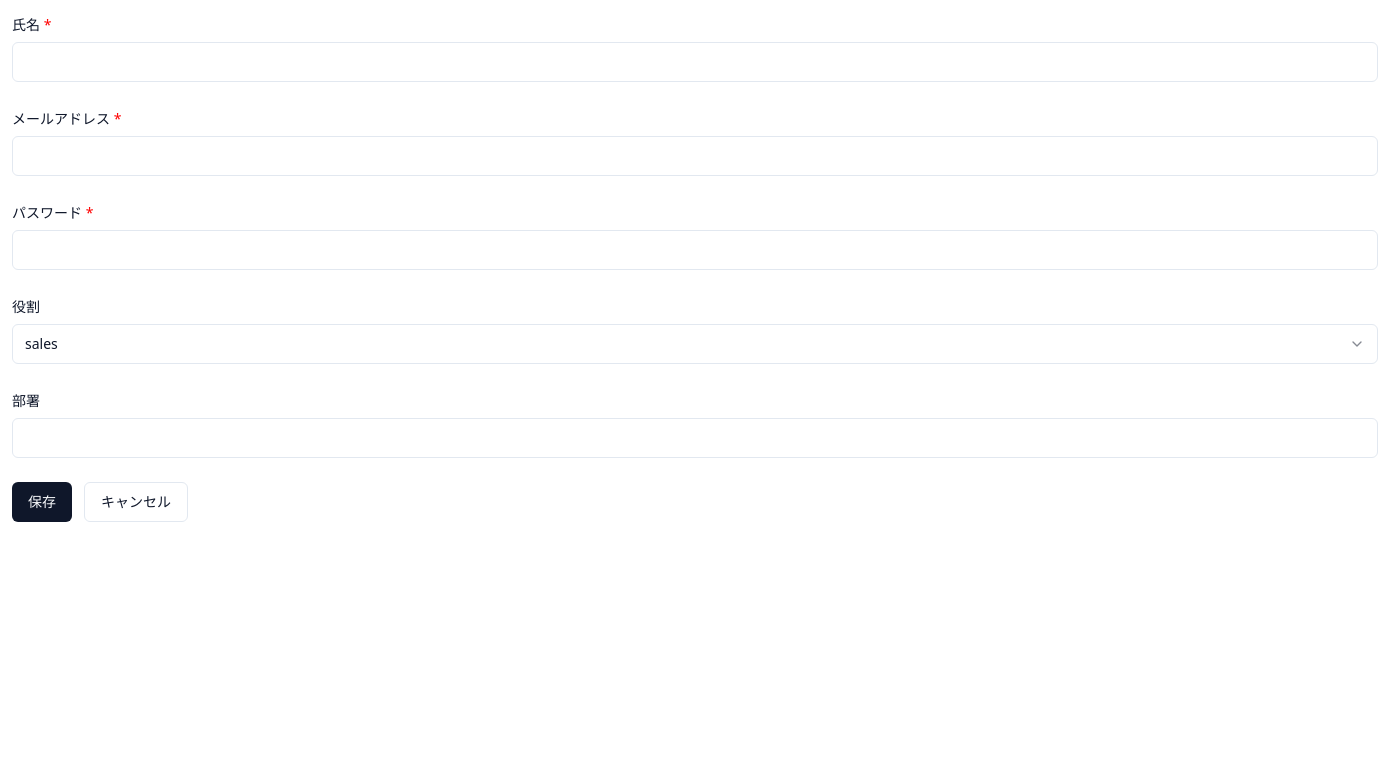
Test: UserForm – 新規登録モード (mode="create") › バリデーション › 氏名が空の場合にエラーメッセージを表示する
Note: 他の必須項目は入力済み、氏名だけ空
In the field labelled "メールアドレス *": (695, 156) [12,136,1378,176], type "tanaka@example.com"
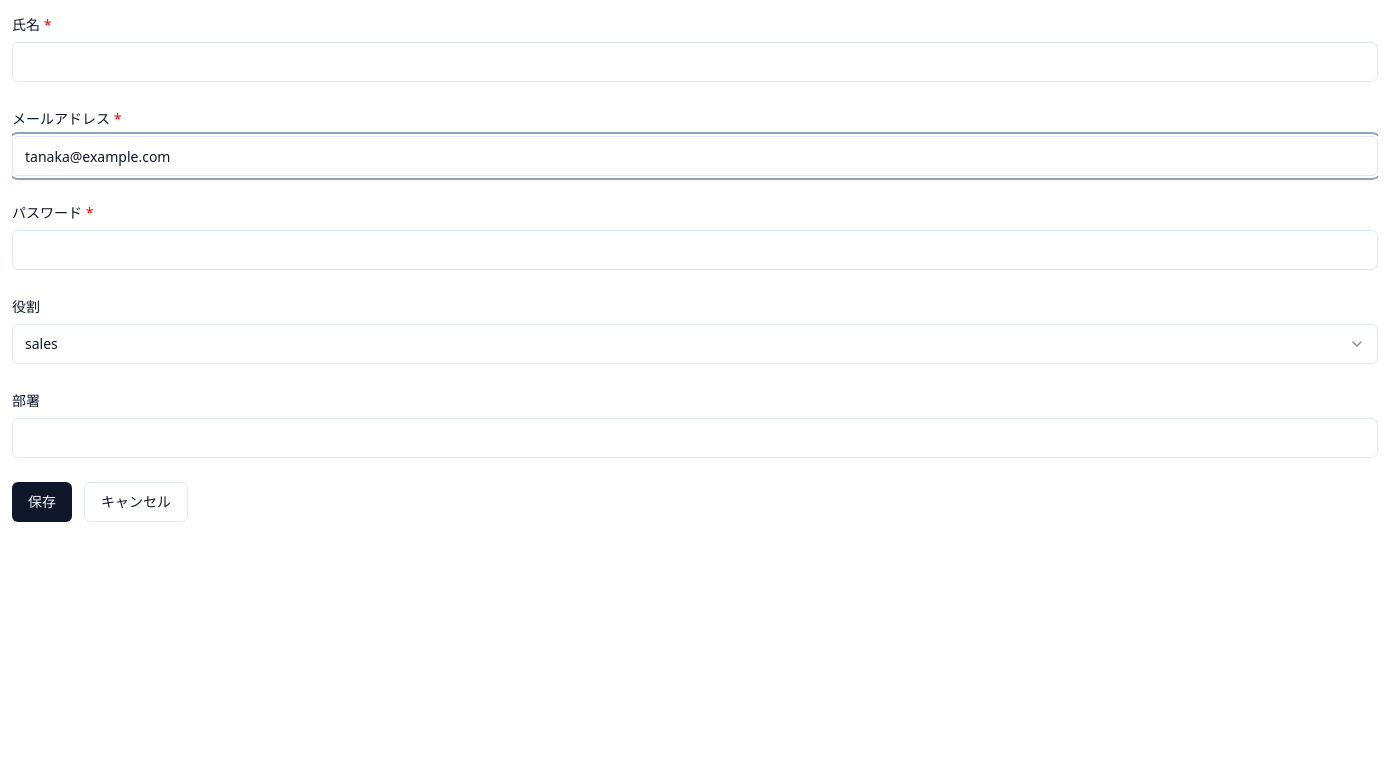
In the password field labelled "パスワード *": (695, 250) [12,230,1378,270], type "password123"
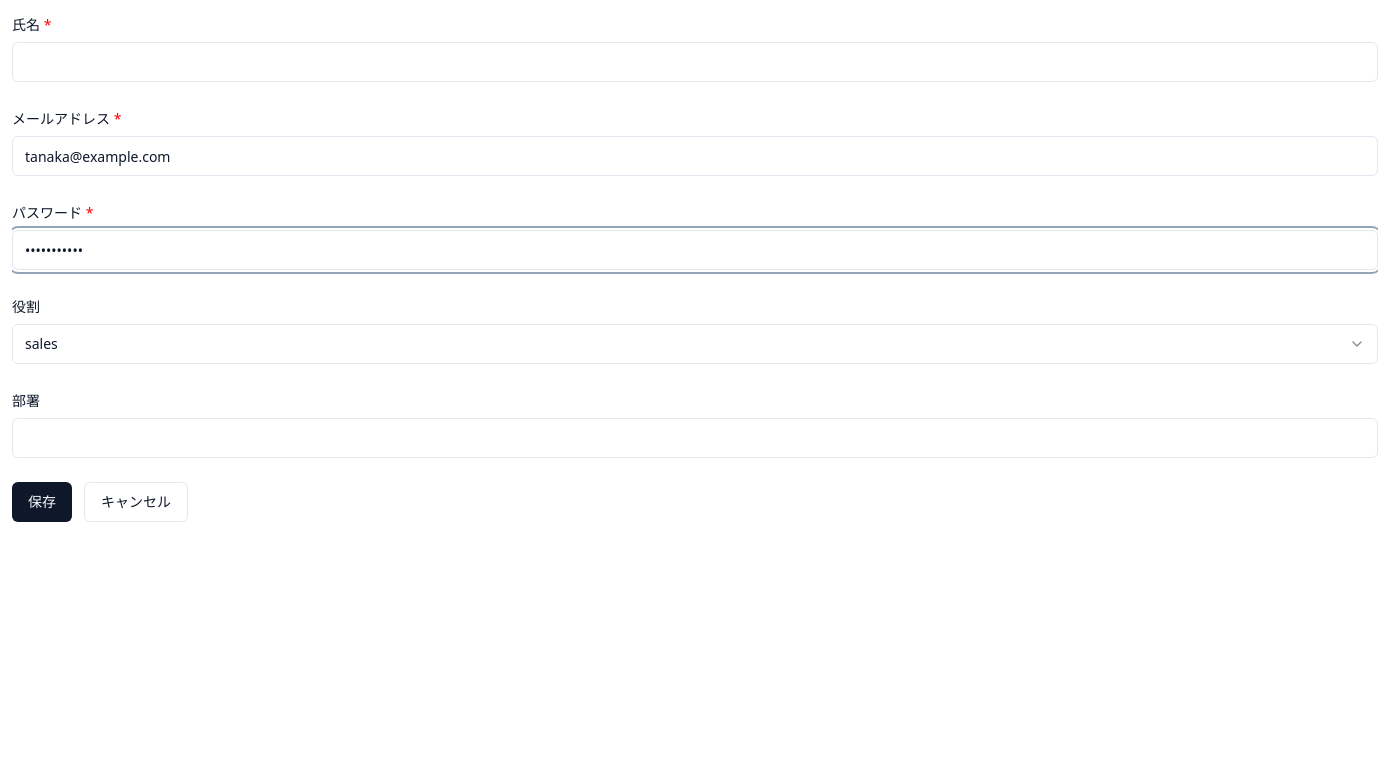
Click the button "保存": (42, 502) [12,482,72,522]
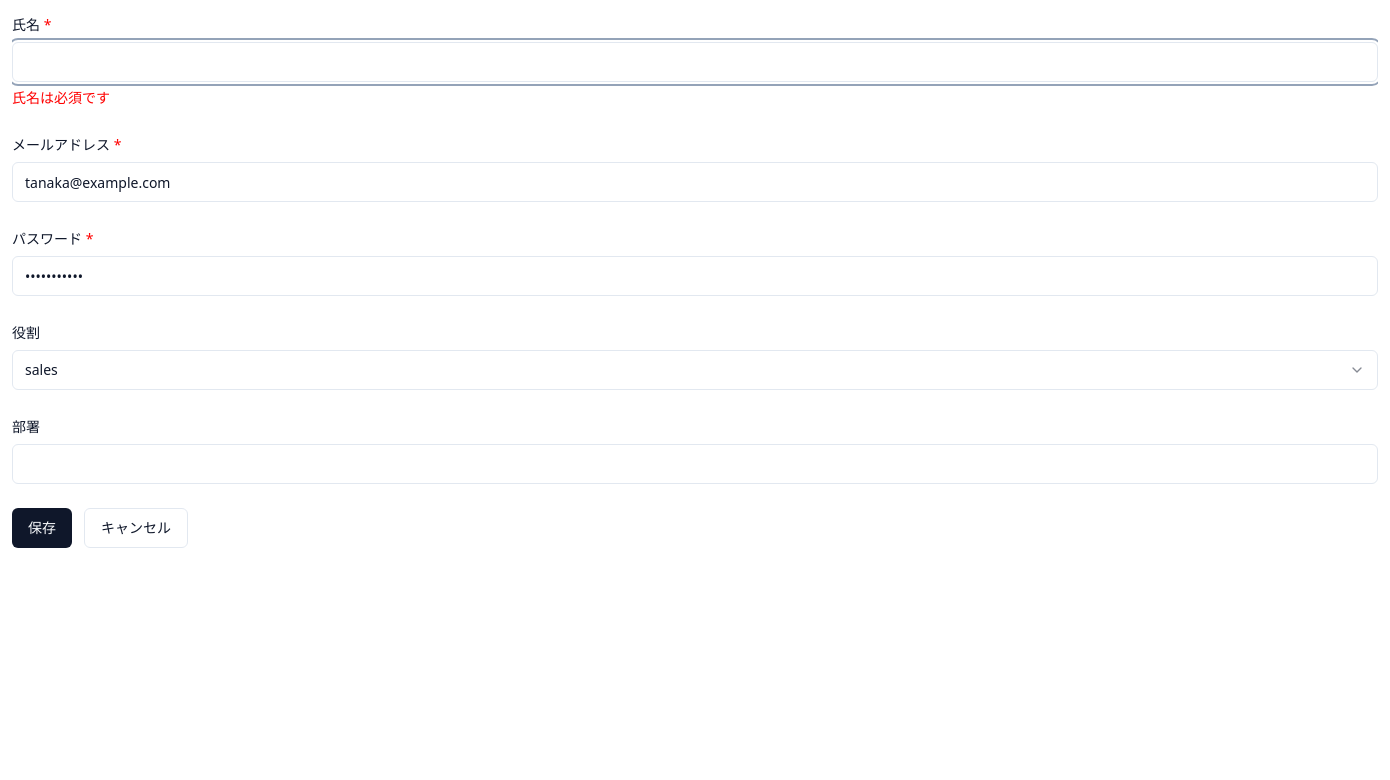
Now the text "氏名は必須です" is shown, box [12,88,110,107]
